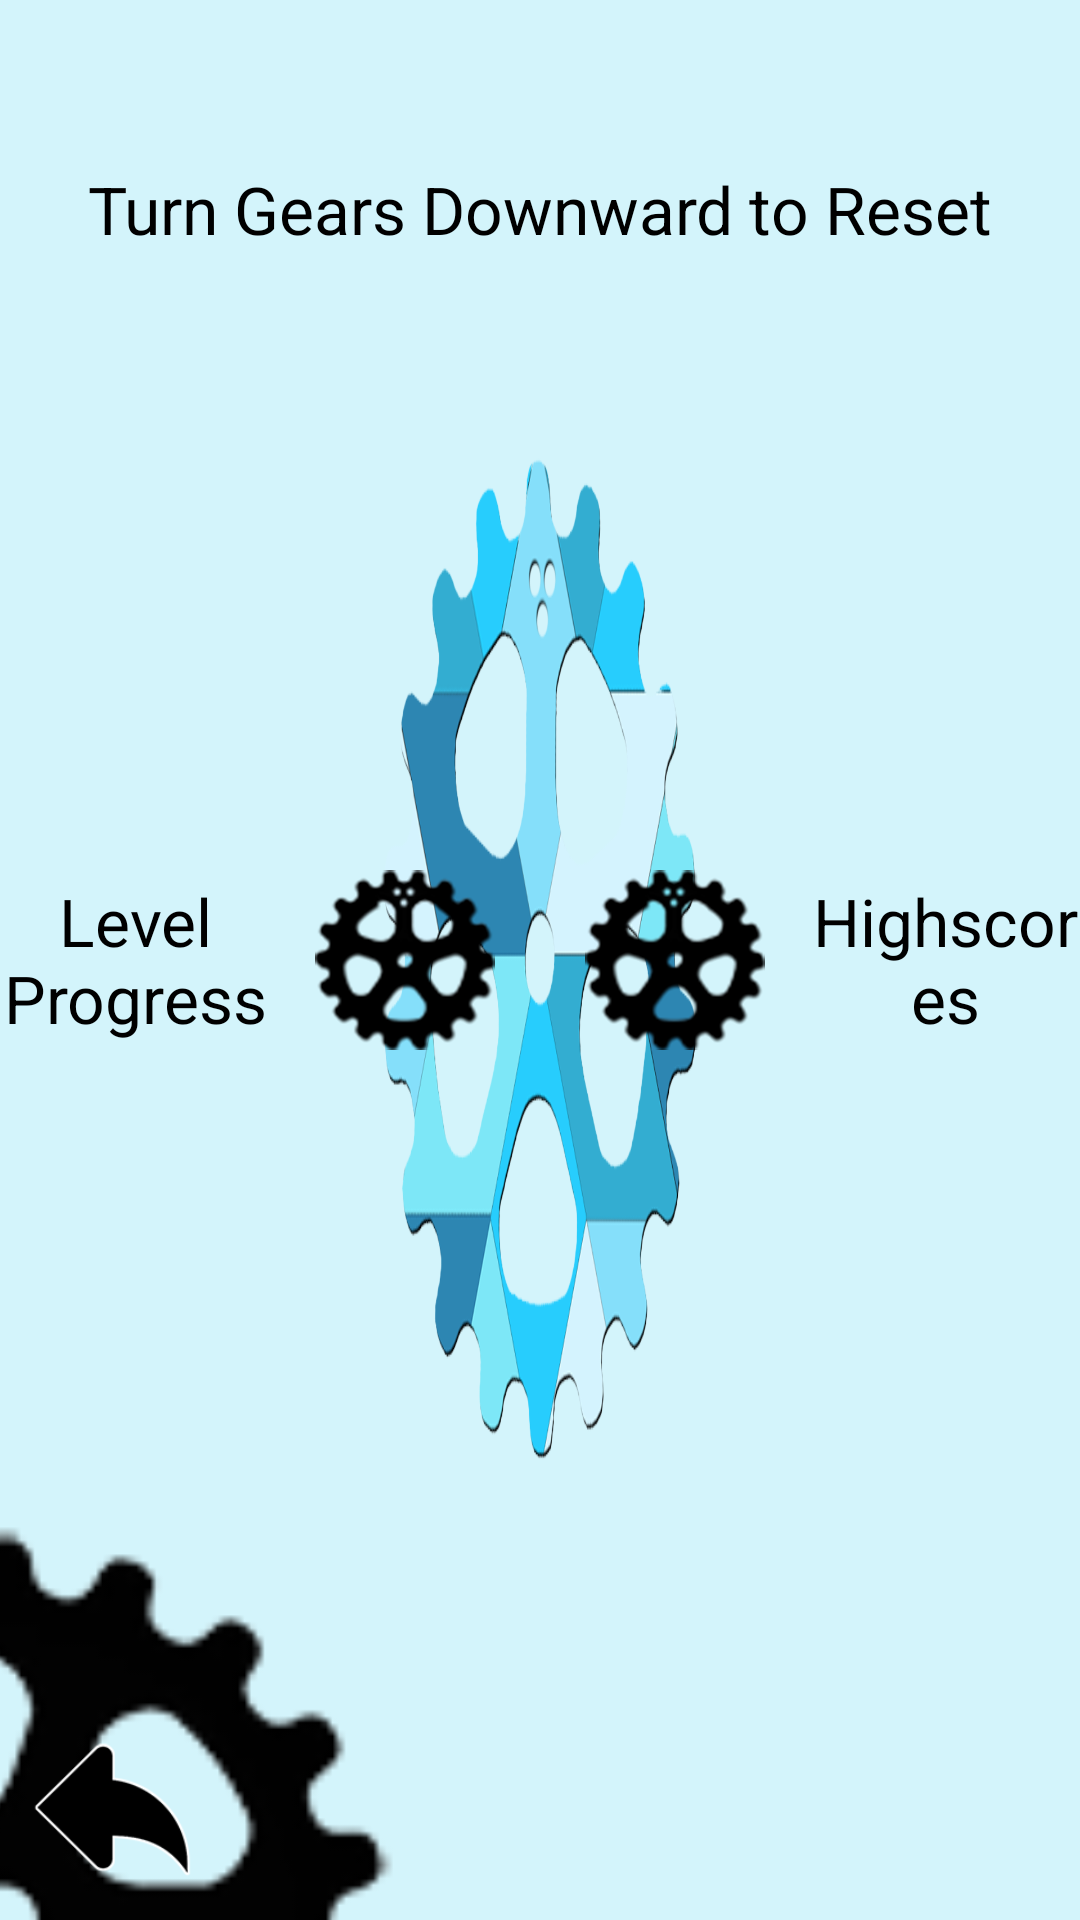

Screen size 1080px×1920px. Icon name, then its center in pixels as (x=x, y=y):
backarrow: (x=112, y=1807)
gearlvl: (x=427, y=960), (x=652, y=960)
